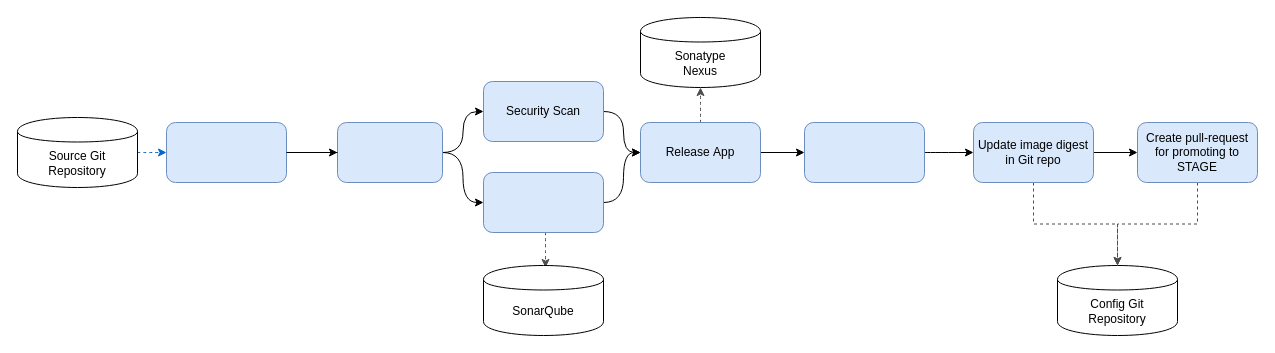
Some shapes in this 1275 by 353 pixel diagram are drawn without their labels. The centre of each missing label's shape, as x and y in pixels:
Build Image: (x=864, y=152)
Clone Code: (x=226, y=152)
Run Unit Tests: (x=389, y=152)
Static Analysis: (x=543, y=202)
